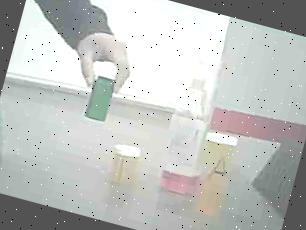Bottle A: (186, 127, 248, 224)
Bottle B: (100, 140, 148, 198)
Bottle C: (68, 58, 134, 128)
hazard: (146, 44, 230, 204)
